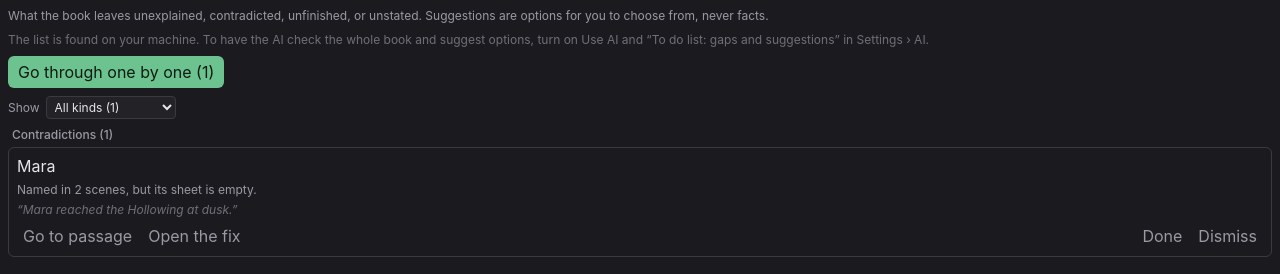
TodoTab (F-9.16) › offers the fix of a contradiction, and no Undo once it is dismissed there
This screenshot has width=1280, height=274.
Check: the button "Open the fix" is shown, box [142,222,247,250]
Click the button with aria-label "Done: Mara". click: (1162, 236)
box: [1136,222,1188,250]
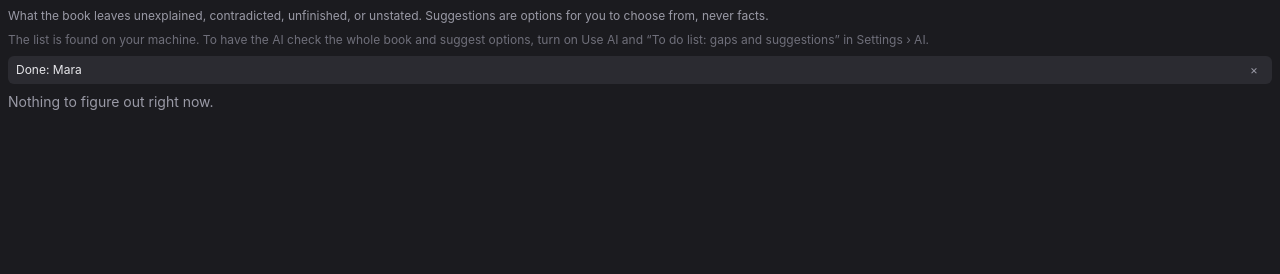
Check: the message with test id "todo-undo" shows "Done: Mara", box [8,56,1272,84]
